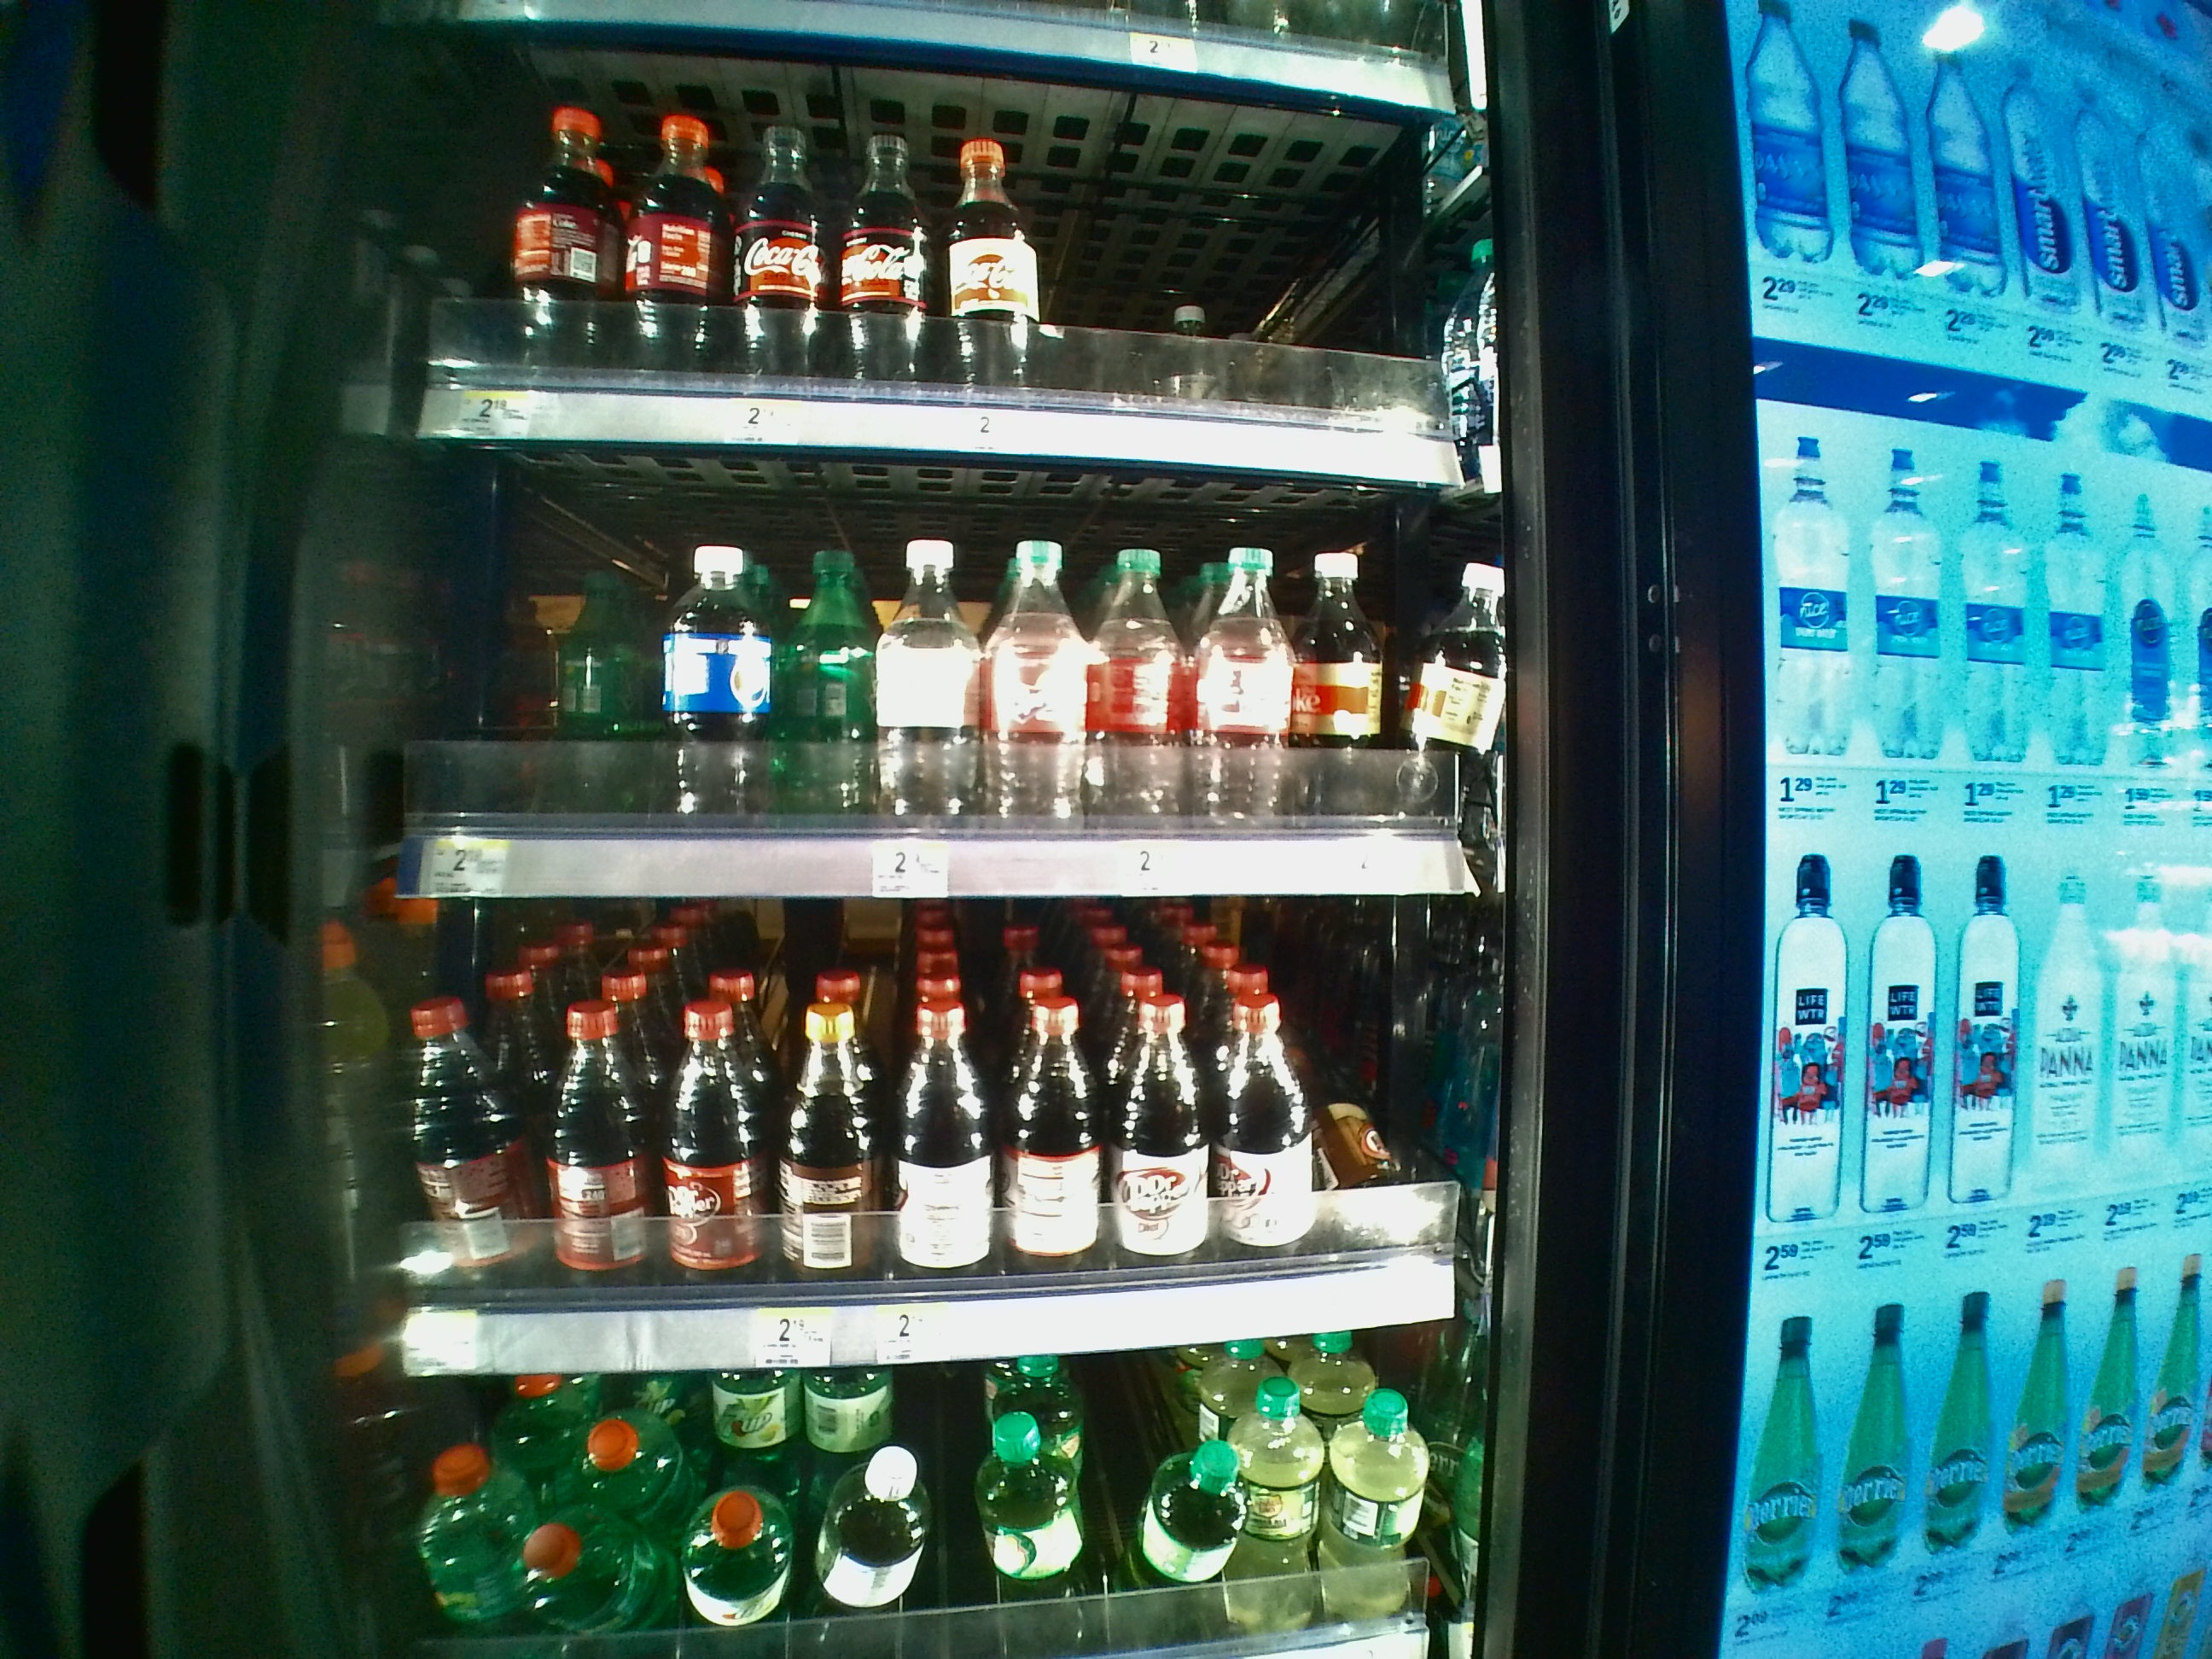shelf: (380, 903, 1510, 1377), (380, 436, 1501, 904)
